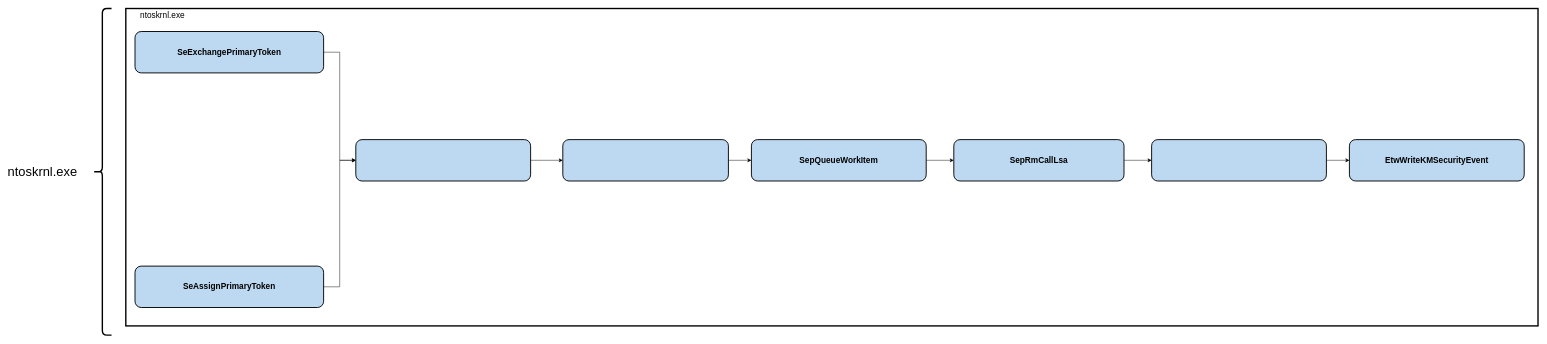
This 1547x344 diagram has some shape labels left out. The shapes that lost their labels are listed below. From the top down, each one's centre as x and y in pixels, then its label:
the point at 443,160: SepAuditAssignPrimaryToken
the point at 645,160: SepAdtLogAuditRecord
the point at 1239,160: AdtpWriteToEtw
